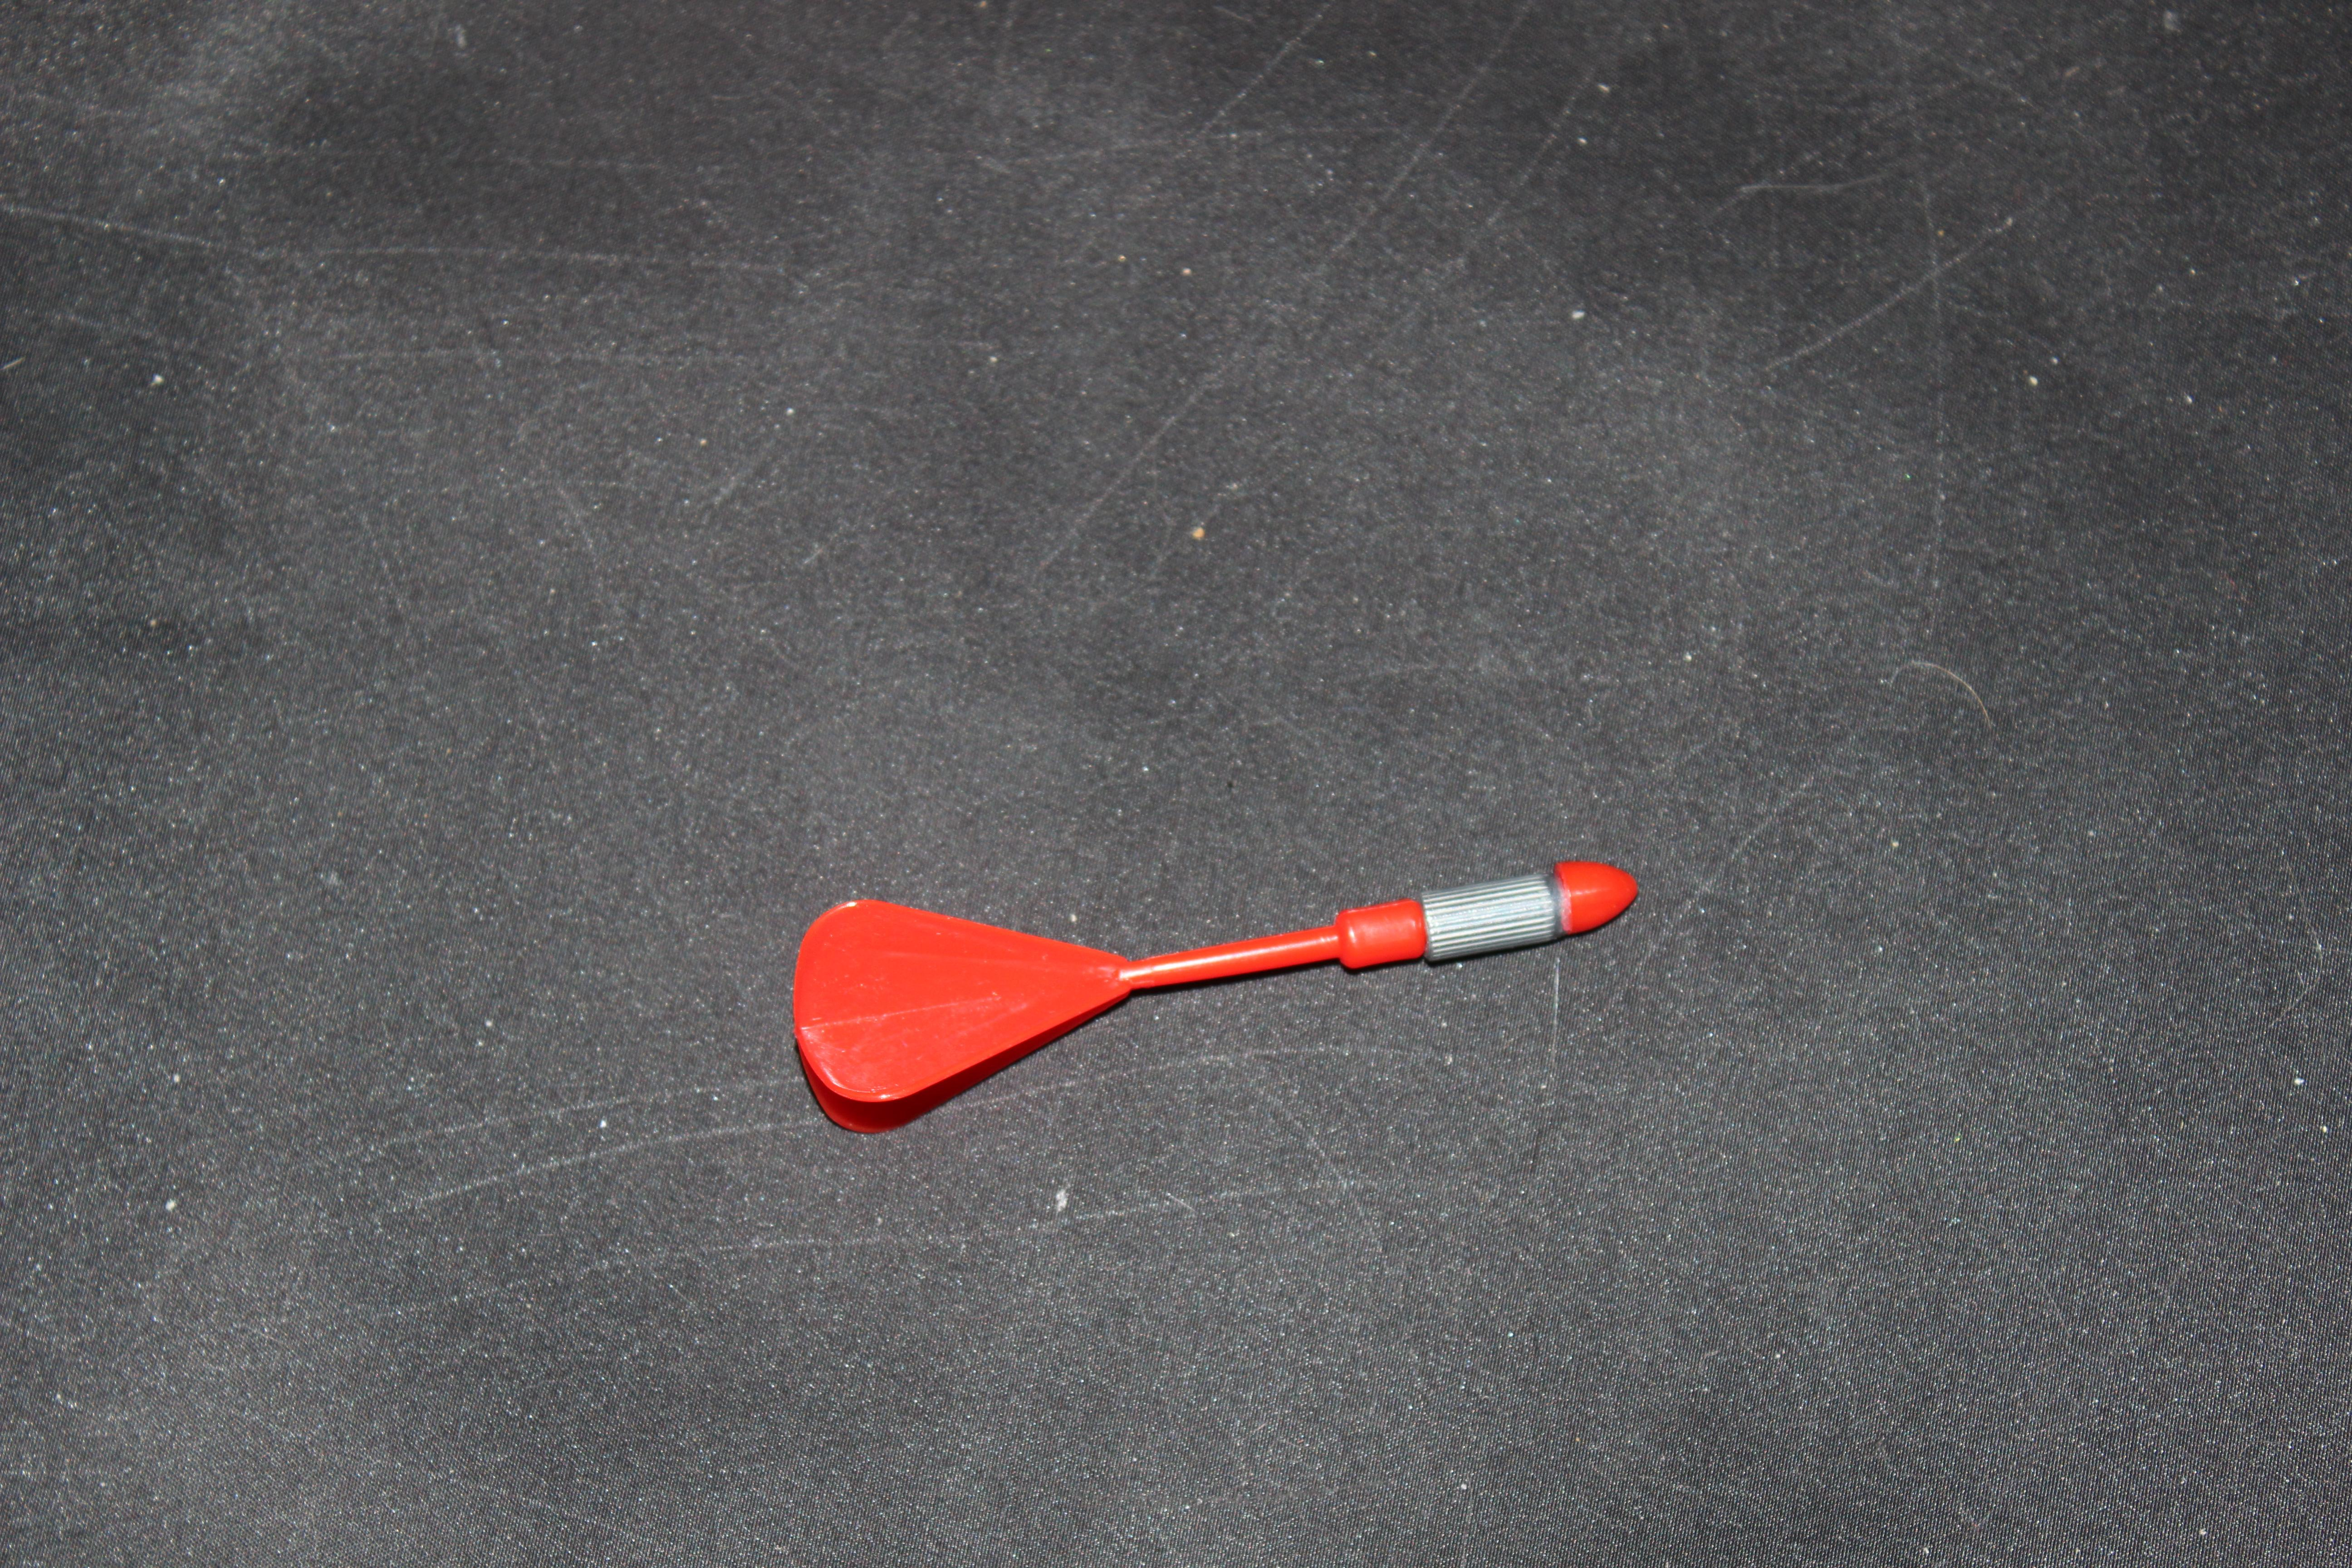redDart: (747, 829, 1668, 1167)
